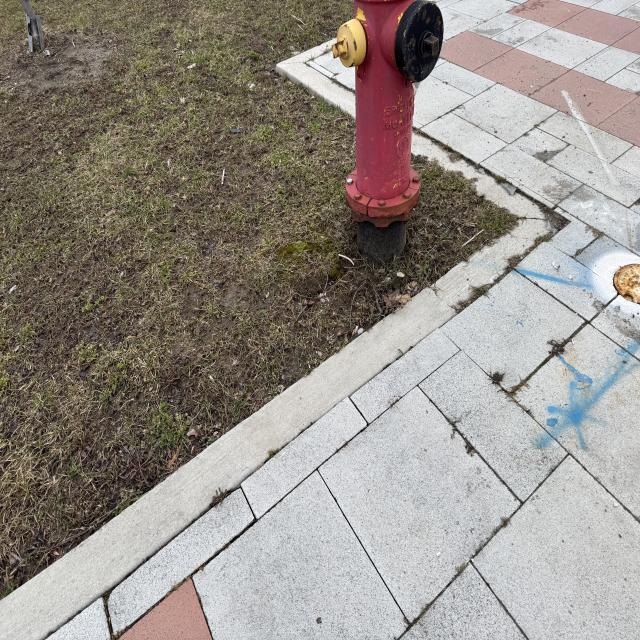Fire hydrant: (332, 0, 444, 228)
